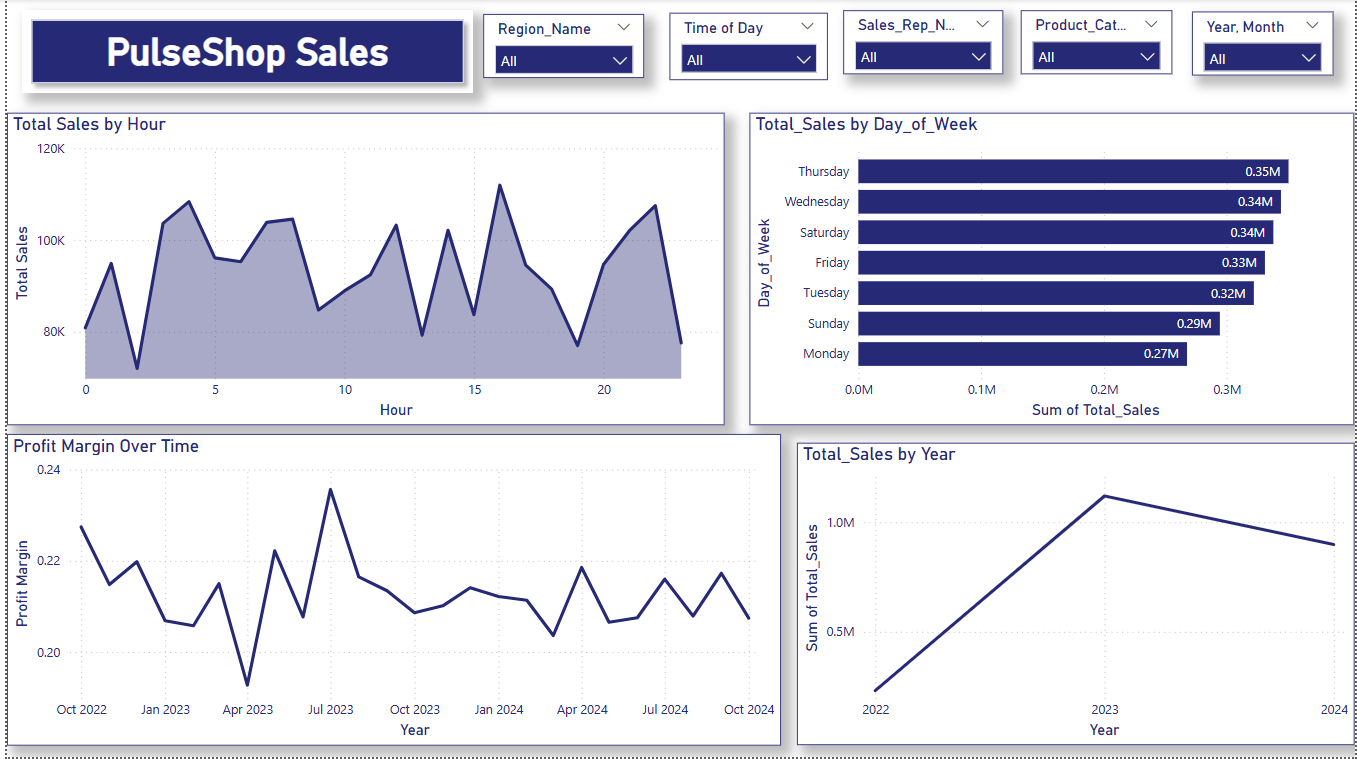

What the dashboard file says about the page in this screenshot:
{"tool":"powerbi","page":{"name":"Time-Based Sales Analysis","canvas":[1280,720],"ordinal":2},"visuals":[{"type":"shape","box":[14.2,10.7,428.6,78.4],"z":0},{"type":"slicer","fields":{"Values":["Regions.Region_Name"]},"box":[452.4,14.2,153.2,60.6],"z":1},{"type":"slicer","fields":{"Values":["Orders.Time of Day"]},"box":[629.3,13.1,150.8,64.1],"z":2},{"type":"slicer","fields":{"Values":["Sales_Reps.Sales_Rep_Name"]},"box":[794.3,10.7,152,60.6],"z":3},{"type":"slicer","fields":{"Values":["Products.Product_Category"]},"box":[962.9,10.7,143.7,60.6],"z":4},{"type":"slicer","fields":{"Values":["Date_Table.Year","Date_Table.Month"]},"box":[1125.6,11.9,134.2,60.6],"z":5},{"type":"areaChart","fields":{"Category":["Orders.Hour"],"Y":["Measures_Table.Total Sales"]},"box":[0,108,681.5,296.8],"z":6},{"type":"clusteredBarChart","title":" Total_Sales by Day_of_Week","fields":{"Y":["Orders.Total_Sales"],"Category":["Orders.Day_of_Week"]},"box":[705.3,108,574.7,296.8],"z":9},{"type":"lineChart","title":"Profit Margin Over Time","fields":{"Y":["Measures_Table.Profit Margin"],"Category":["Date_Table.Date.Variation.Date Hierarchy.Year","Date_Table.Date.Variation.Date Hierarchy.Month"]},"box":[0,413.2,735,295.7],"z":10},{"type":"lineChart","title":" Total_Sales by Year","fields":{"Category":["Date_Table.Date.Variation.Date Hierarchy.Year"],"Y":["Orders.Total_Sales"]},"box":[750.4,421.5,529.6,287.3],"z":11}]}

Visuals, with their boxes in screenshot pixels (x1, y1, x2, y2), scaled from the page's 1280x720 canvas onto the 1357x759 screenshot:
shape: <region>15, 11, 469, 94</region>
slicer - Regions.Region_Name: <region>480, 15, 642, 79</region>
slicer - Orders.Time of Day: <region>667, 14, 827, 81</region>
slicer - Sales_Reps.Sales_Rep_Name: <region>842, 11, 1003, 75</region>
slicer - Products.Product_Category: <region>1021, 11, 1173, 75</region>
slicer - Date_Table.Year x Date_Table.Month: <region>1193, 13, 1336, 76</region>
areaChart - Orders.Hour x Measures_Table.Total Sales: <region>0, 114, 722, 427</region>
" Total_Sales by Day_of_Week" clusteredBarChart: <region>748, 114, 1356, 427</region>
"Profit Margin Over Time" lineChart: <region>0, 436, 779, 747</region>
" Total_Sales by Year" lineChart: <region>796, 444, 1356, 747</region>
